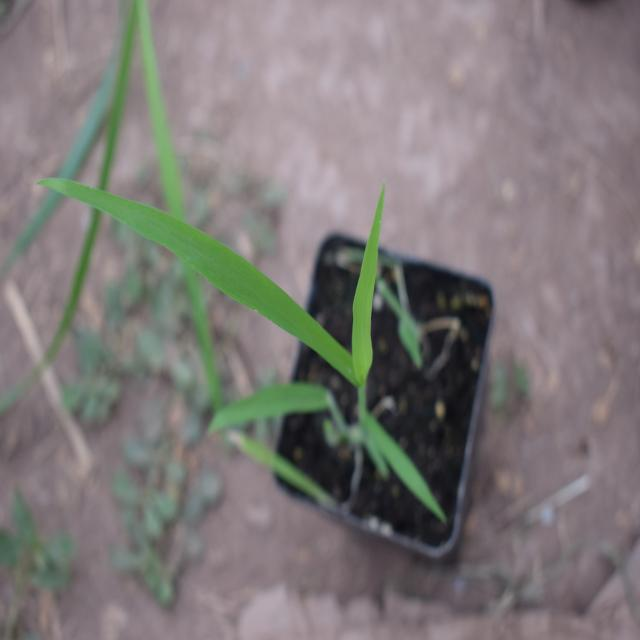crabgrass: (69, 168, 430, 486)
